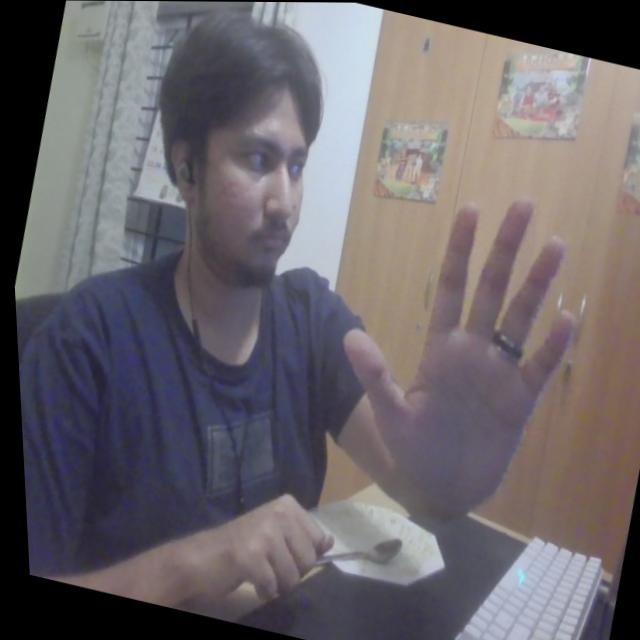hello: (288, 155, 611, 553)
